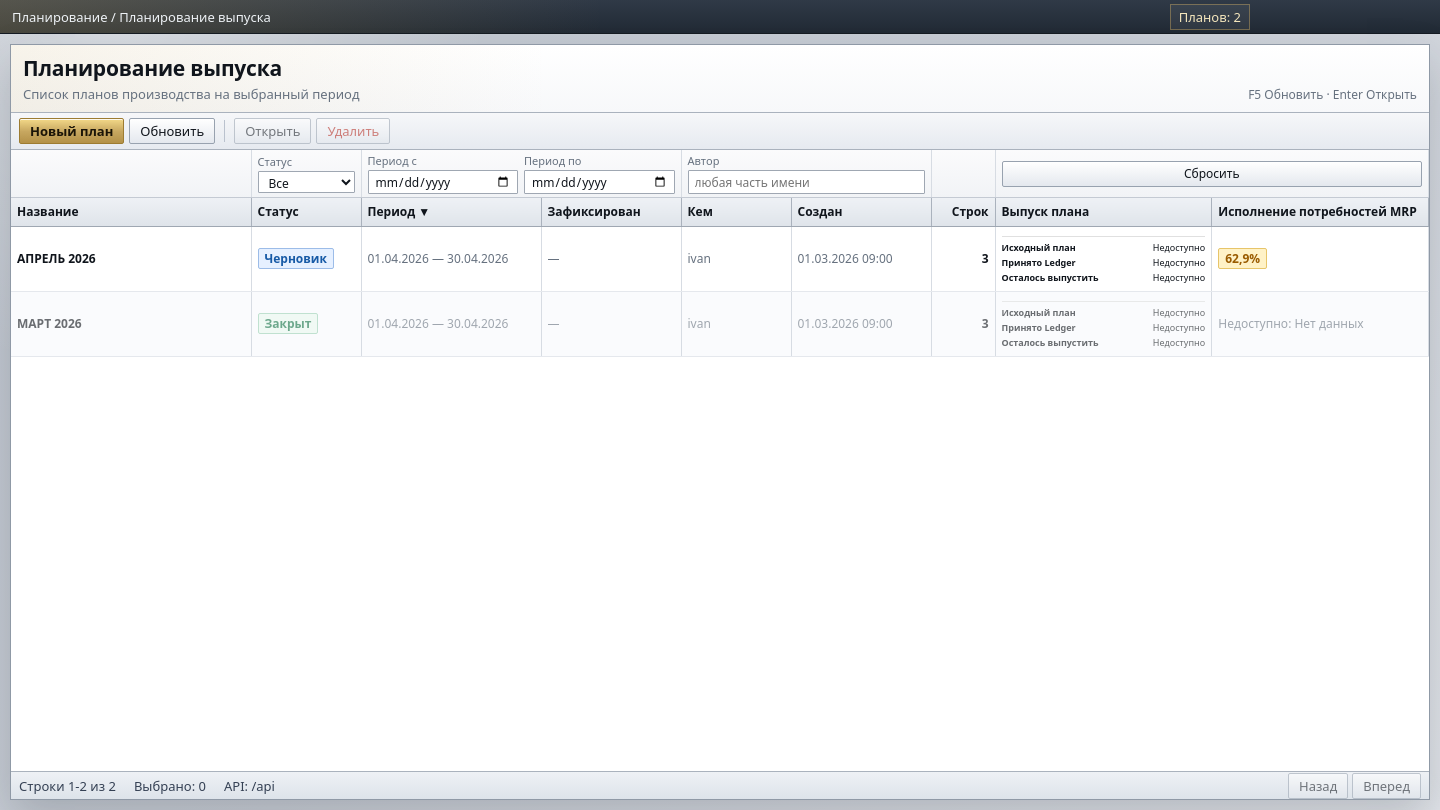
PeriodPlanPage — list view › double-clicking a row navigates to the plan detail (useNavigate)
Double-click the text "АПРЕЛЬ 2026" at (56, 258), box [17,250,96,267]
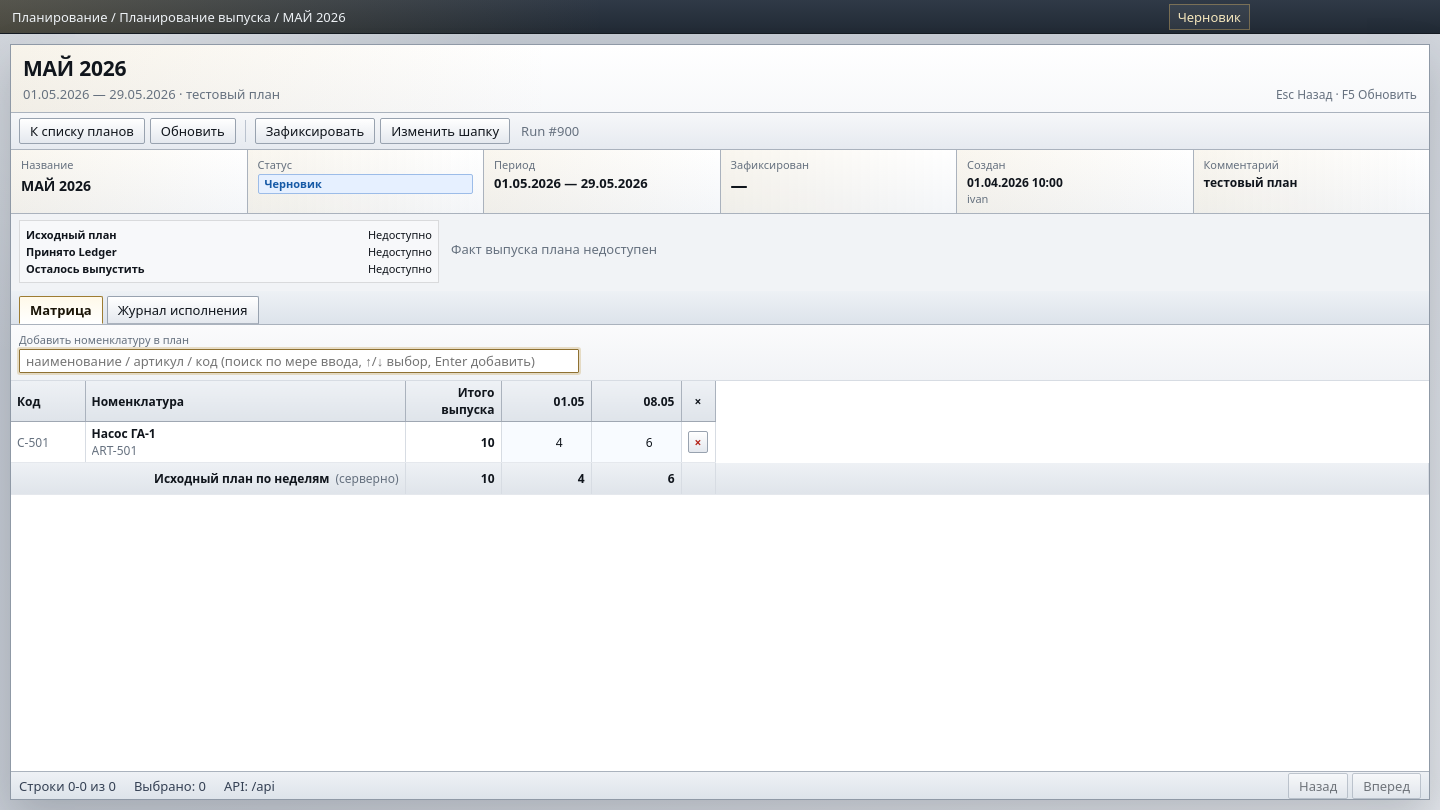
expect the column heading "Код" is shown: met, box [11,381,85,422]
